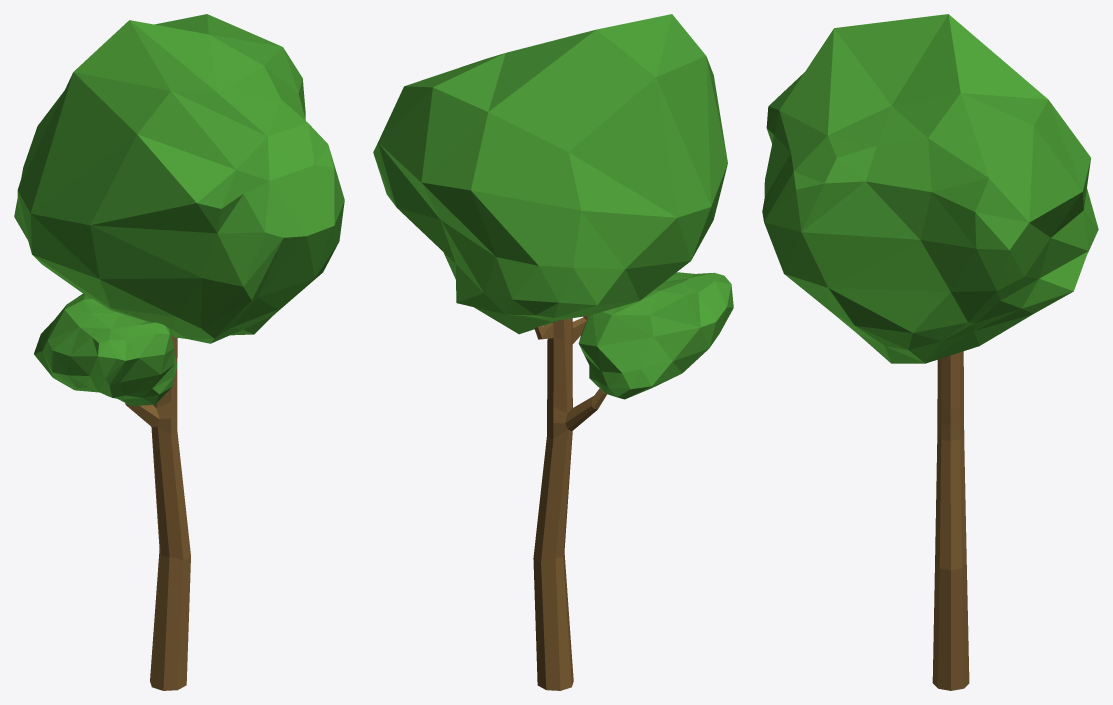
File: Tree2.fbx
3 views of the same model, side by side, from view 1: azimuth 30°, elevation 25°; view 2: azimuth 150°, elevation 25°; view 3: azimuth 270°, elevation 25° (orthographic). The views are drawn at different scales.
Visible parts, largest first — view 1: Tree2; view 2: Tree2; view 3: Tree2.
Boxes of the visible parts, bbox=[...] form: Tree2: bbox=[14, 14, 344, 690]; Tree2: bbox=[373, 14, 733, 690]; Tree2: bbox=[762, 14, 1098, 690].
Size of the model in its own units: 360 by 763 by 358.
